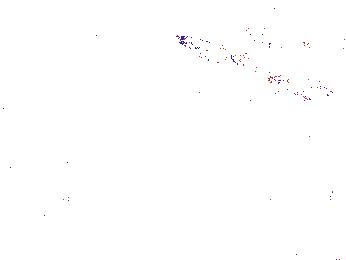X-ray fish: (49, 130, 67, 171)
glassfish: (114, 133, 230, 209)
redtail glassfish: (175, 32, 247, 70), (246, 23, 309, 52), (269, 72, 331, 94)
